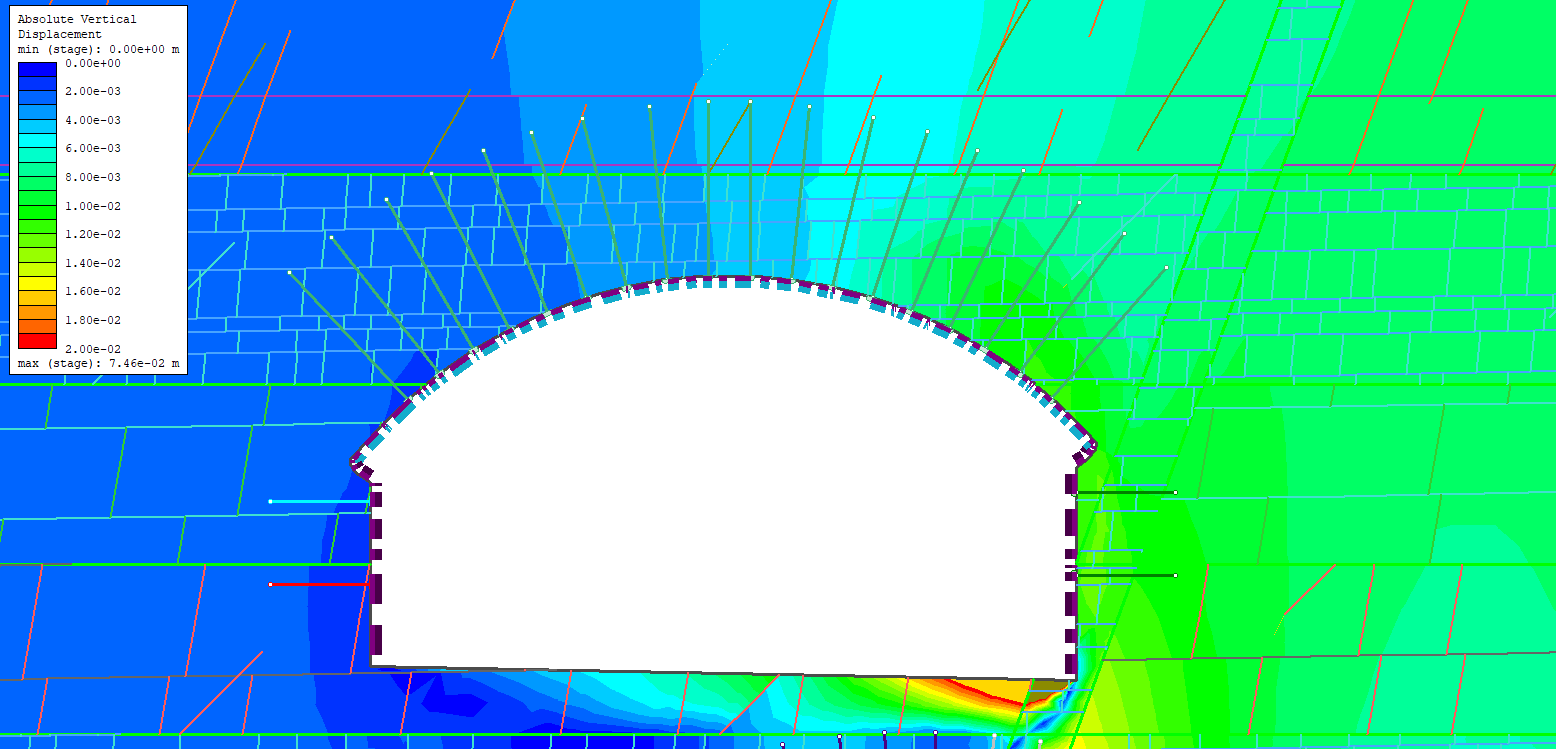crown: (661, 236, 852, 273)
label: (11, 5, 189, 373)
tunnel-opening: (352, 275, 1097, 679)
